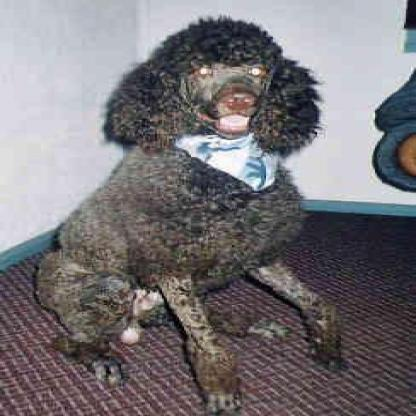standard_poodle: (27, 12, 341, 414)
